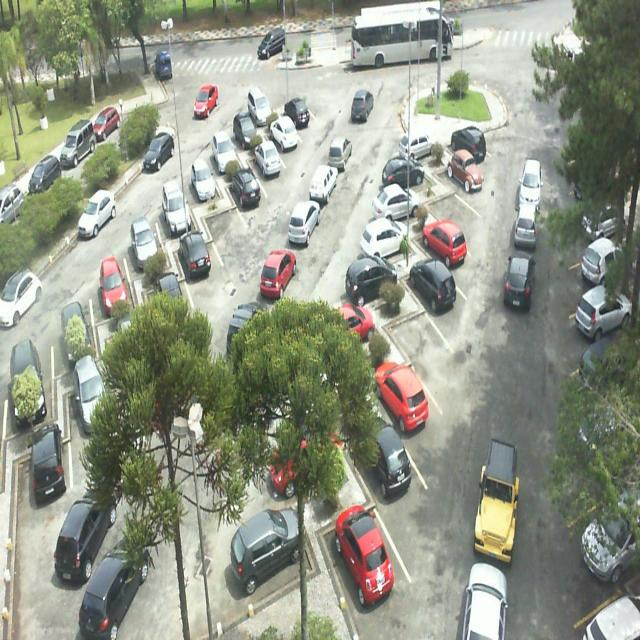empty: (386, 287, 450, 382), (426, 172, 478, 235), (204, 189, 243, 249)
occupied: (322, 488, 402, 620), (235, 500, 324, 609), (350, 401, 424, 521), (374, 354, 439, 444), (405, 251, 459, 327), (416, 205, 469, 275), (339, 250, 399, 309), (94, 244, 136, 324), (356, 215, 414, 266), (368, 176, 426, 226), (437, 147, 489, 201), (126, 214, 167, 279), (181, 222, 219, 291), (158, 180, 196, 242), (229, 159, 267, 219), (380, 150, 434, 190), (449, 122, 491, 168), (265, 106, 303, 156), (205, 124, 240, 178), (225, 105, 261, 155), (183, 151, 217, 203), (248, 134, 284, 182), (282, 88, 318, 133), (399, 126, 443, 159), (245, 87, 277, 132)
